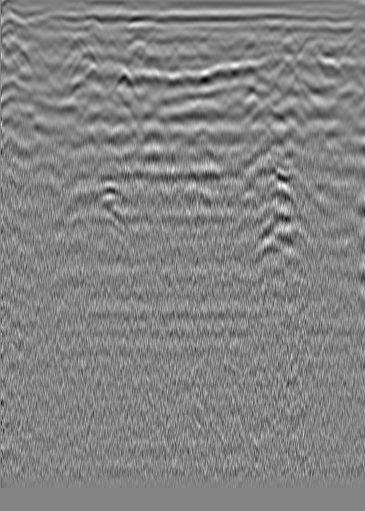가스: (90, 176, 130, 211)
상수: (333, 23, 353, 43)
우수: (198, 31, 218, 51)
